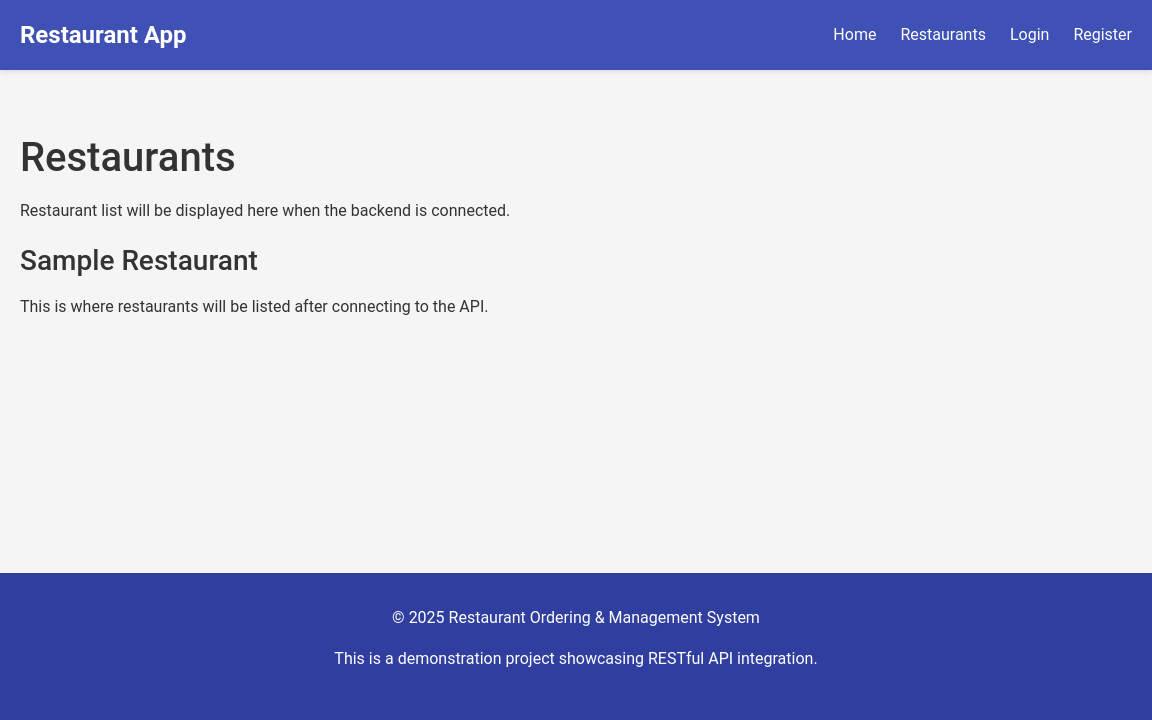
Test: App Integration Tests › should handle API errors gracefully
The image size is (1152, 720).
Note: Navigate to login page
Click the link "Login": click(1030, 35) x1=1010 y1=25 x2=1049 y2=44
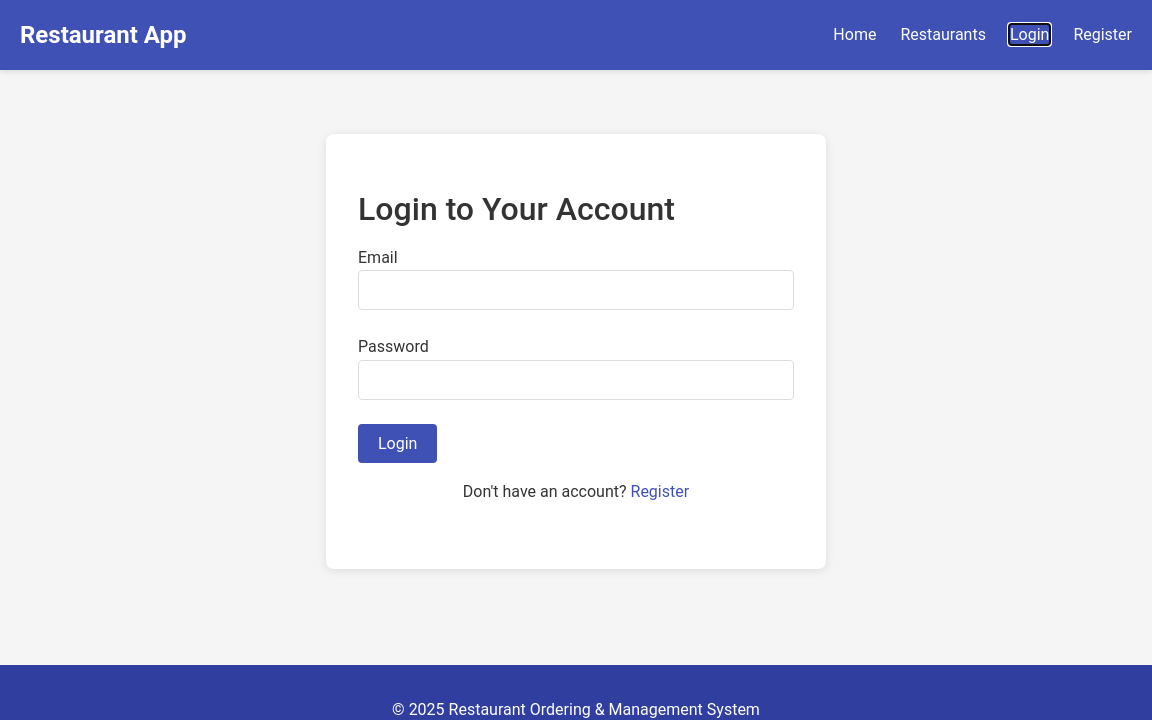
Note: Fill login form with invalid data
In the field labelled "Email": (576, 290) x1=358 y1=270 x2=794 y2=310, type "test@example.com"
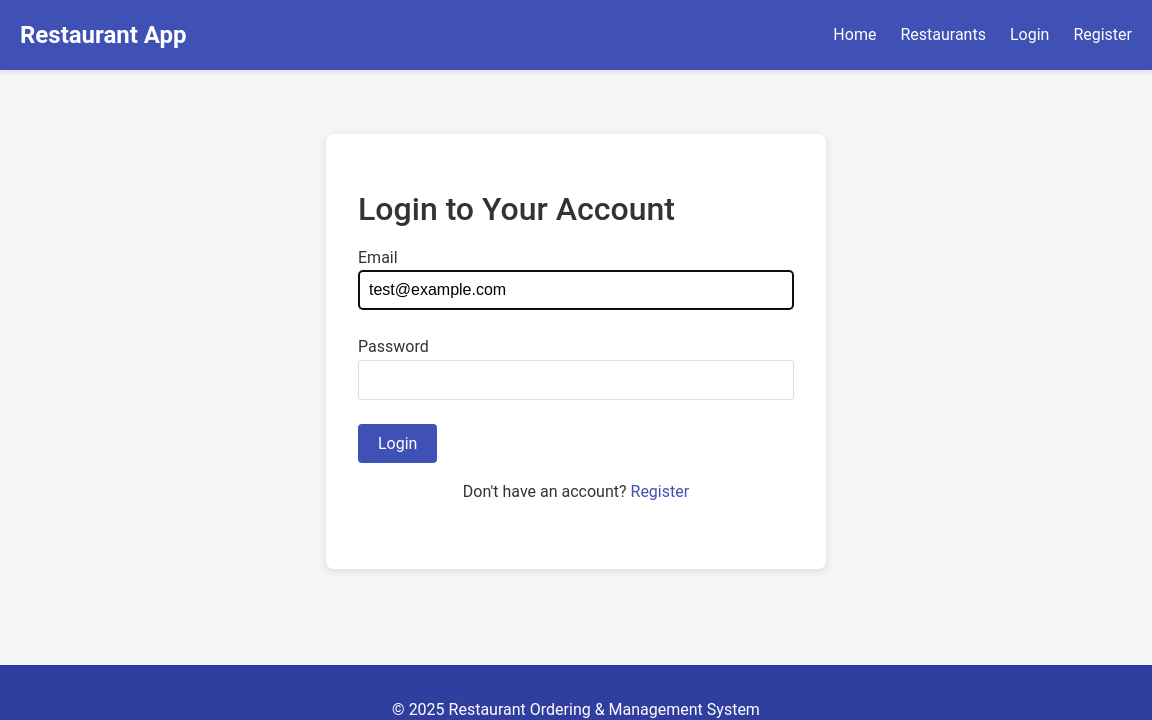
In the password field labelled "Password": (576, 380) x1=358 y1=360 x2=794 y2=400, type "wrongpassword"
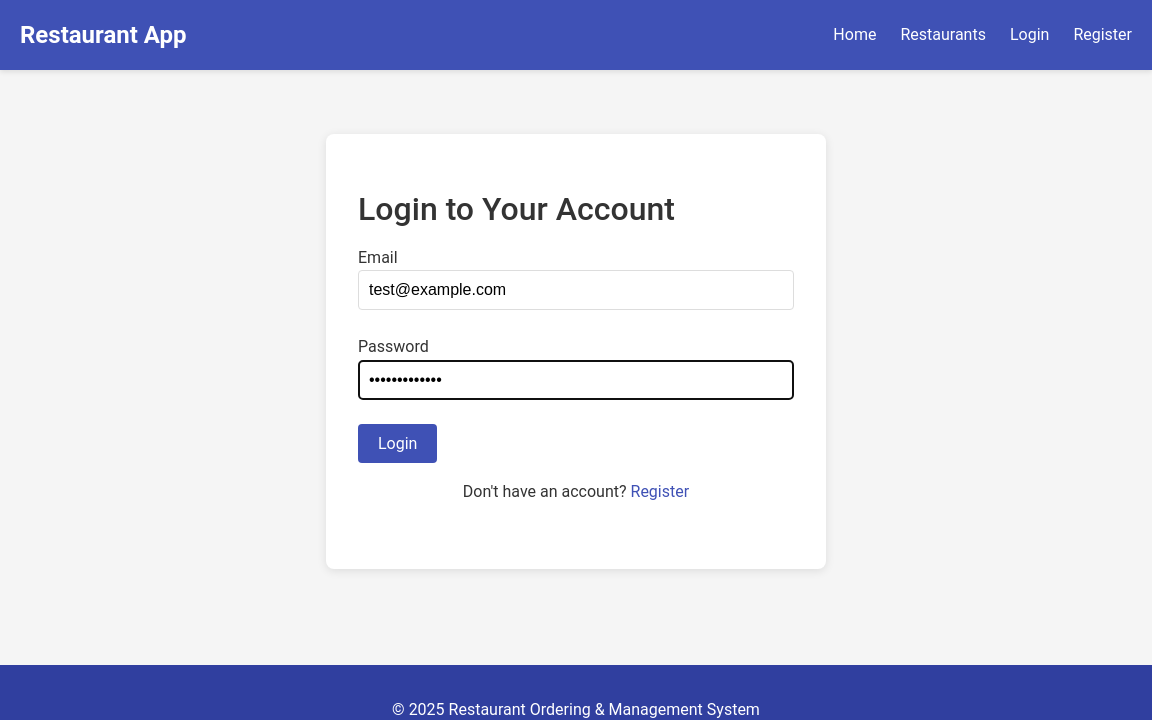
Note: Submit login
Click the button "Login": click(398, 444) x1=358 y1=424 x2=438 y2=463
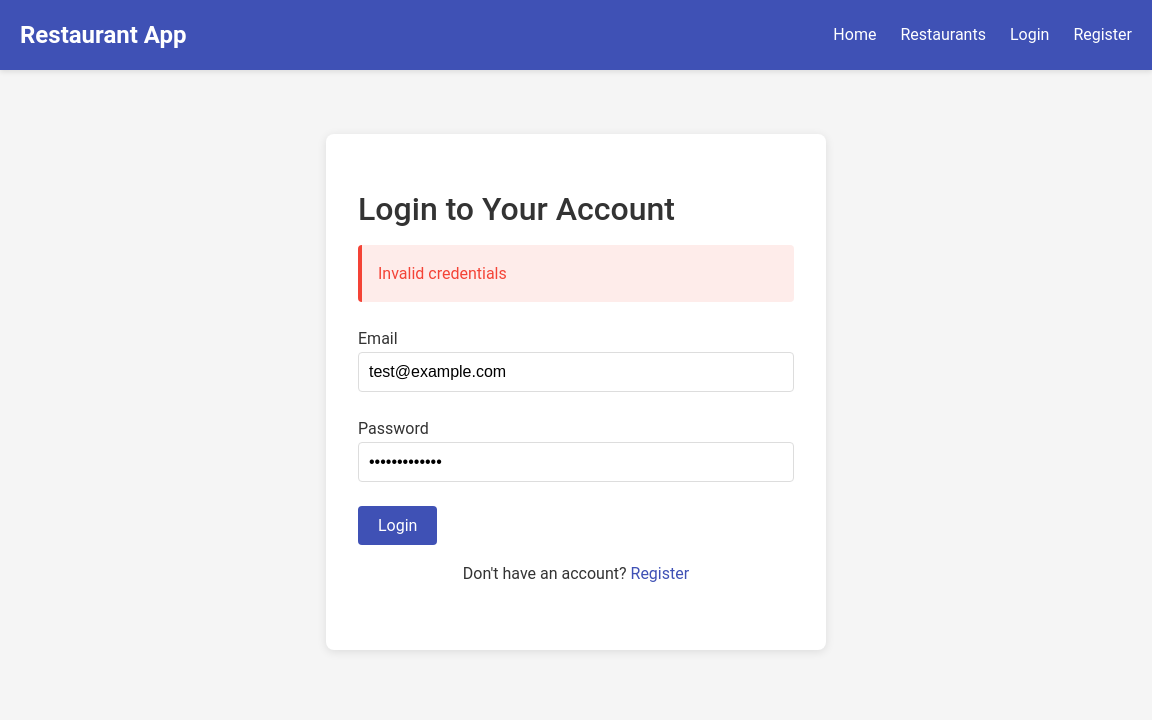
Now the heading "Login to Your Account" is shown, box x1=358 y1=190 x2=675 y2=228
Now the text "Invalid credentials" is shown, box x1=358 y1=245 x2=794 y2=302
